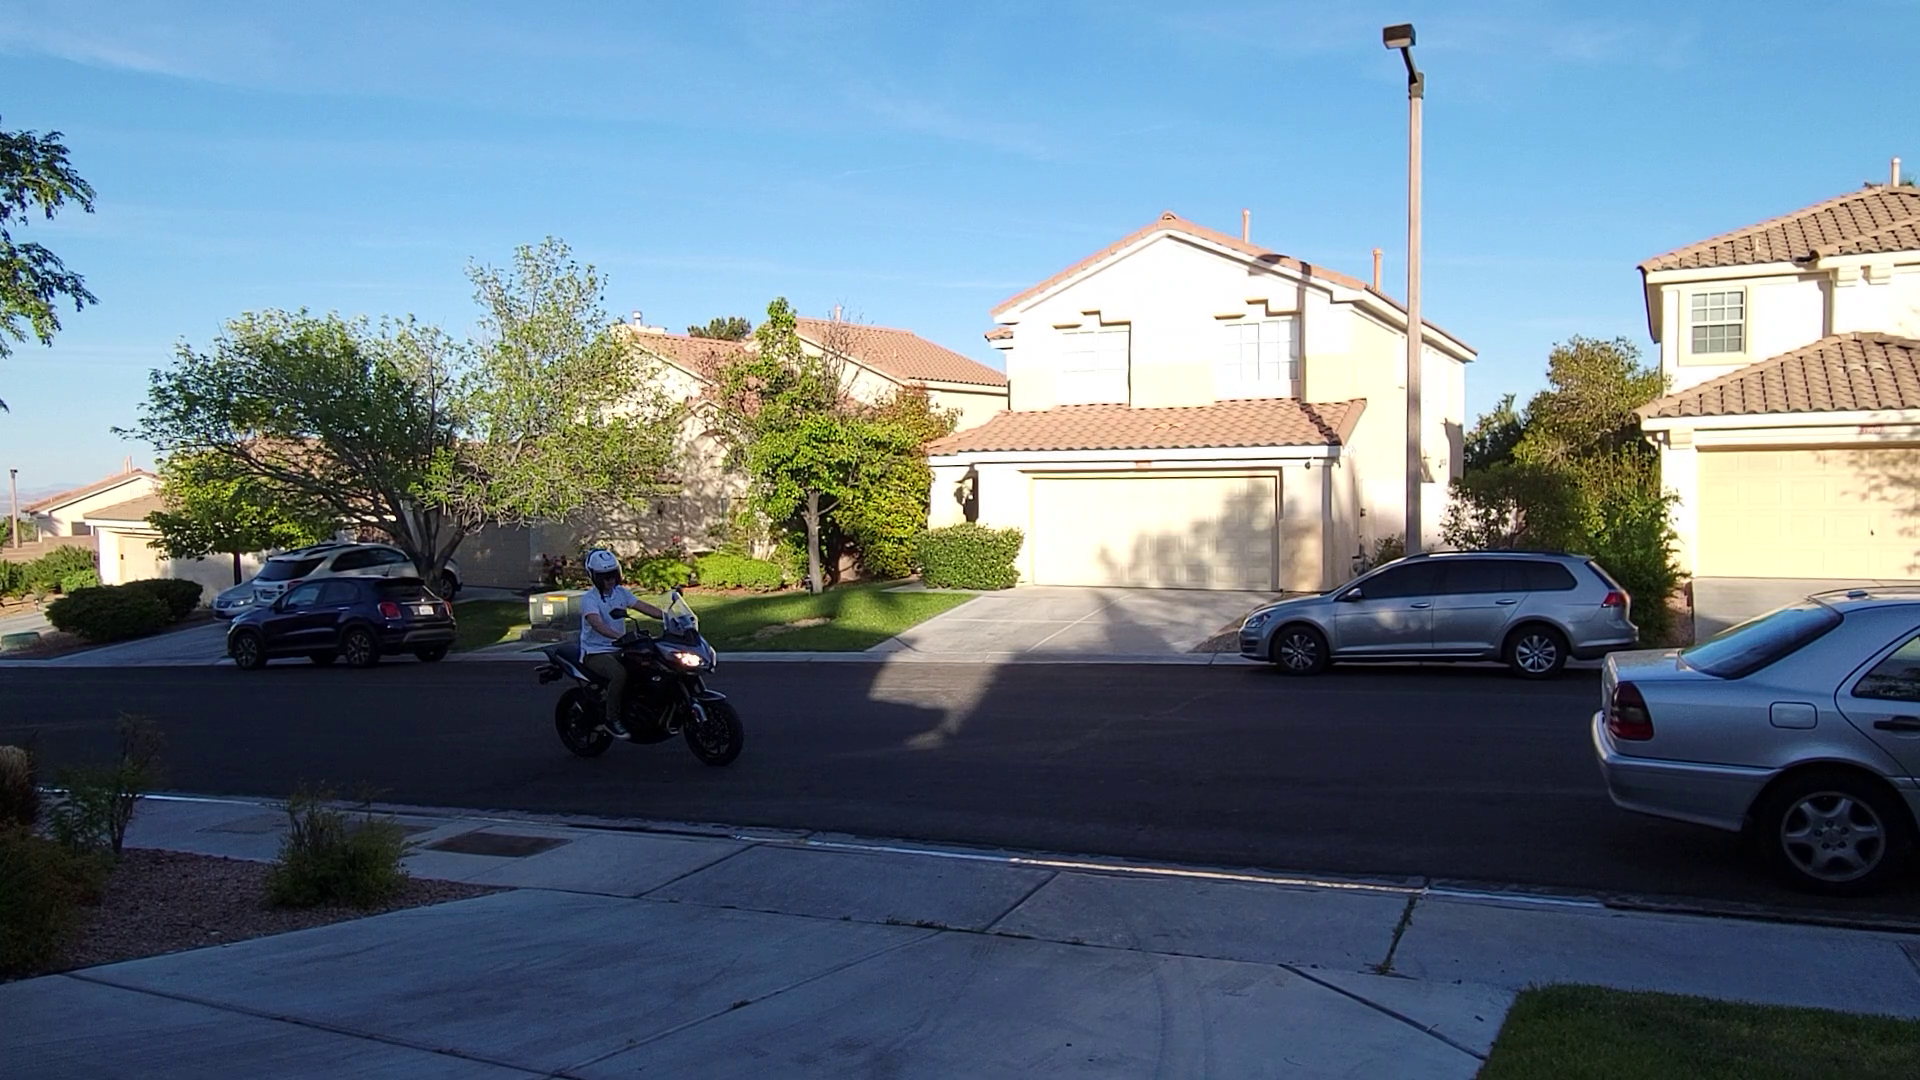my bike: (516, 545, 748, 770)
